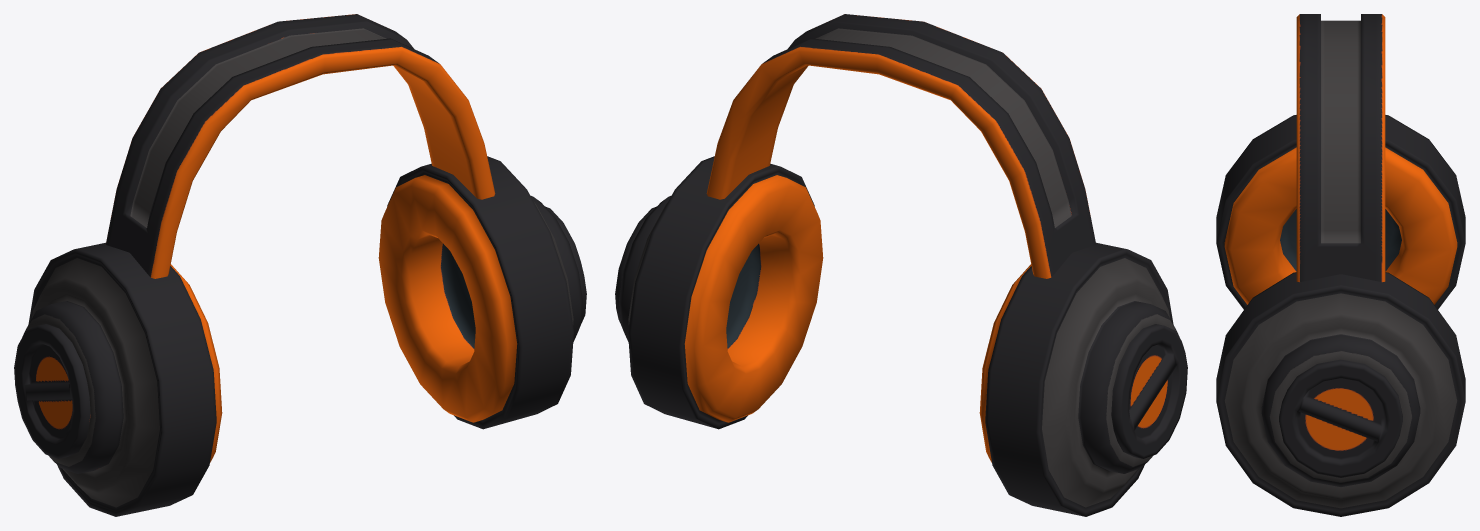
Rendered from earphone (1).glb.
3 renders of one model, left to right at view 1: azimuth 30°, elevation 25°; view 2: azimuth 150°, elevation 25°; view 3: azimuth 270°, elevation 25°, orthographic. The views are drawn at different scales.
Parts seen in each view (by area): view 1: Circle, Circle.001, Circle.002; view 2: Circle, Circle.001, Circle.002; view 3: Circle, Circle.001, Circle.002.
Boxes of the visible parts, x1,y1,x2,y2 form: Circle: [22, 156, 582, 516]; Circle.001: [105, 14, 495, 278]; Circle.002: [14, 206, 586, 458]; Circle: [619, 156, 1179, 516]; Circle.001: [706, 14, 1096, 278]; Circle.002: [615, 206, 1187, 458]; Circle: [1216, 115, 1465, 516]; Circle.001: [1296, 14, 1385, 282]; Circle.002: [1279, 359, 1402, 477].
Size of the model in its own units: 4.66 by 3.66 by 2.14.
Materials: 1 (1 with a texture image).
